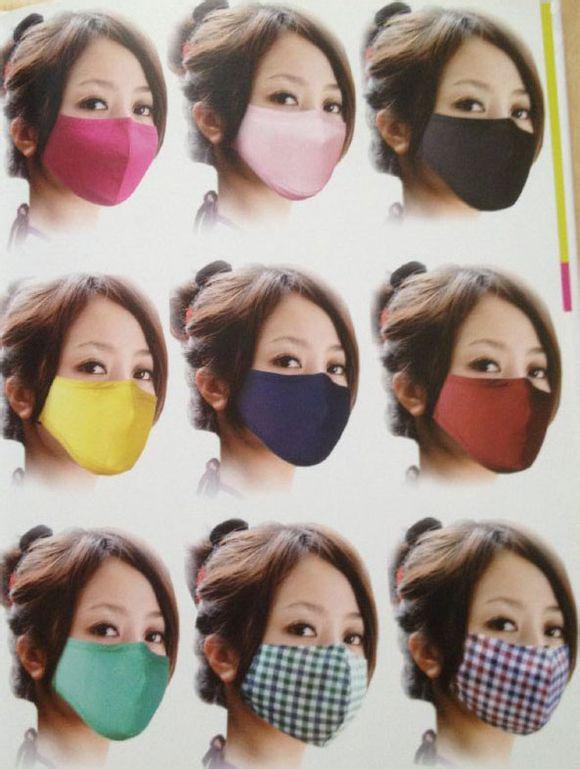OK: (425, 329, 562, 479), (238, 598, 370, 738), (441, 593, 572, 734), (51, 608, 180, 744), (33, 338, 160, 476), (233, 333, 352, 469), (45, 78, 172, 205), (418, 81, 542, 209), (231, 71, 343, 196)
